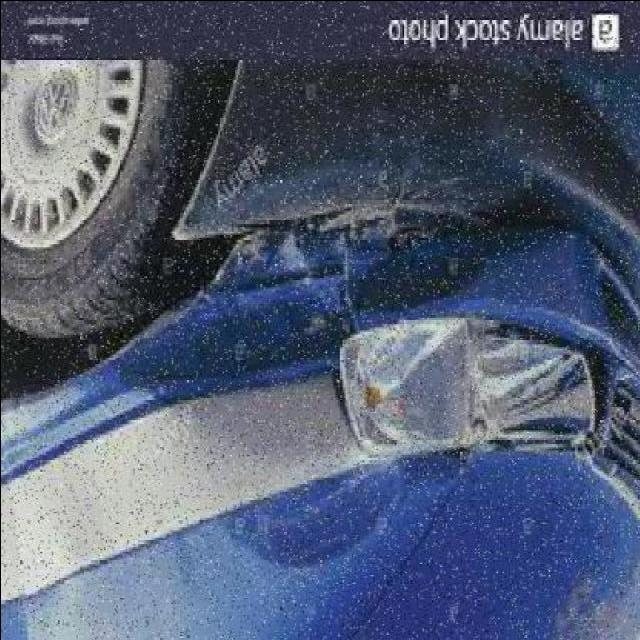Headlight-Damage: (329, 289, 603, 469)
fender-dent: (2, 247, 346, 634)
front-bumper-dent: (146, 48, 640, 249)
